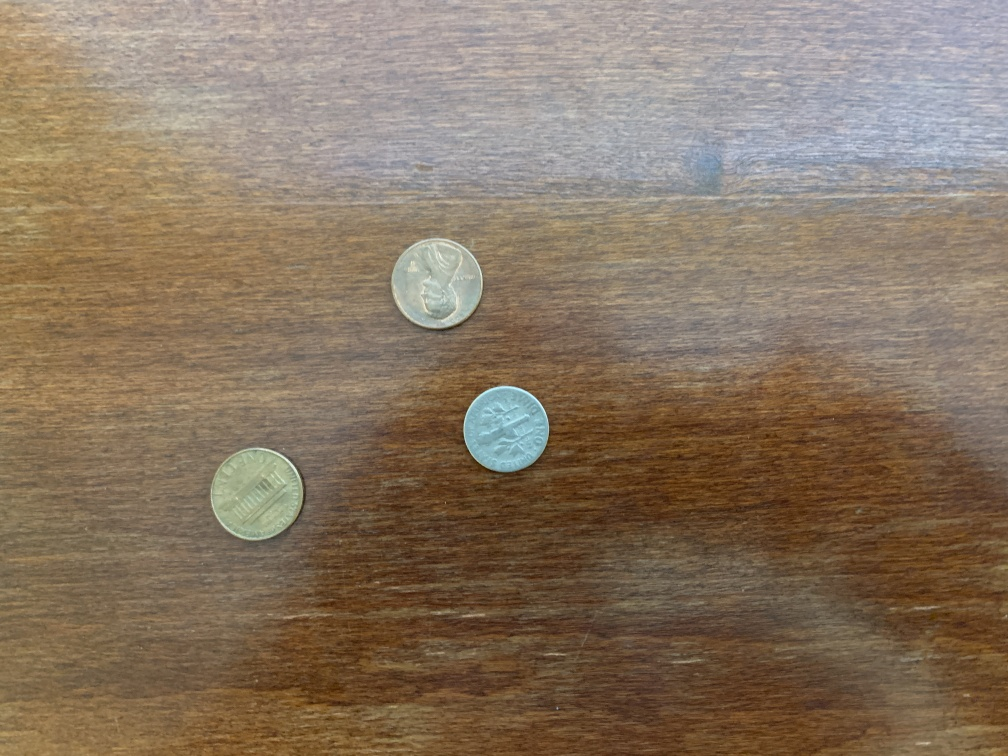dime: (457, 378, 552, 482)
penny: (203, 443, 307, 548), (385, 234, 488, 334)
